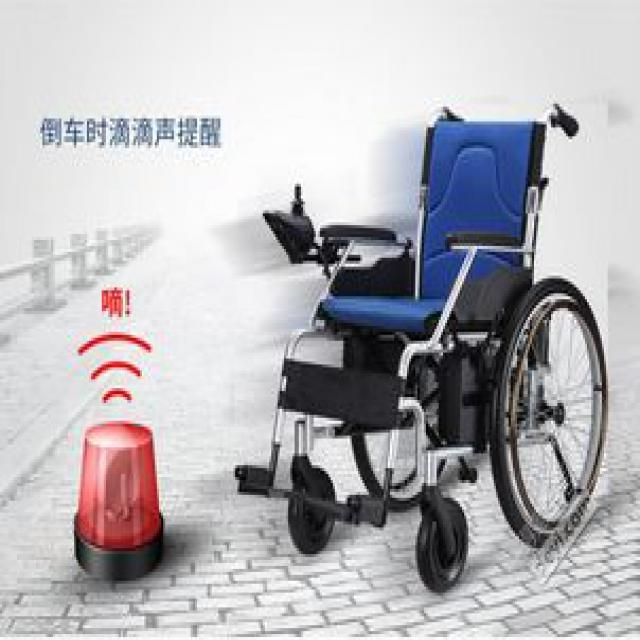wheelchair: (230, 100, 610, 586)
